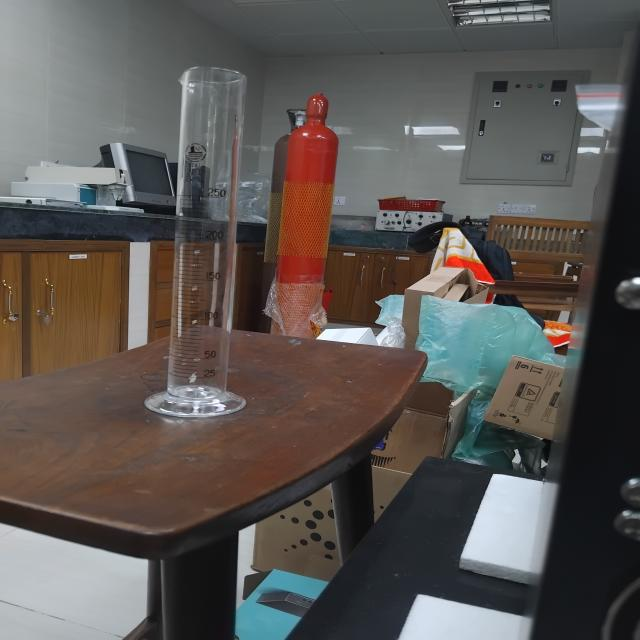Measuring_Cylinder: (134, 16, 314, 450)
